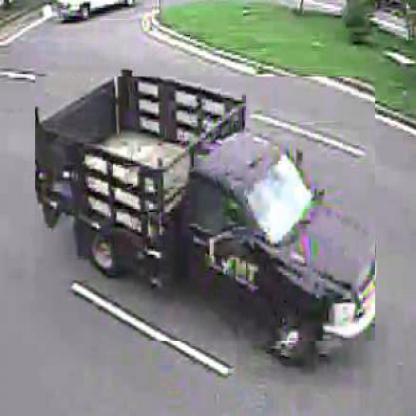truck: (36, 78, 377, 343)
